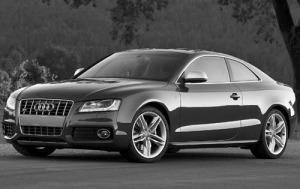car: (6, 47, 297, 166)
